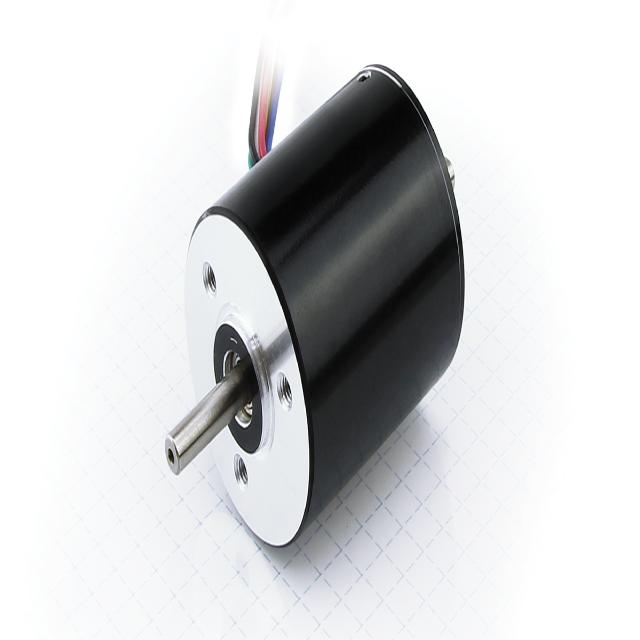motor: (165, 63, 467, 553)
